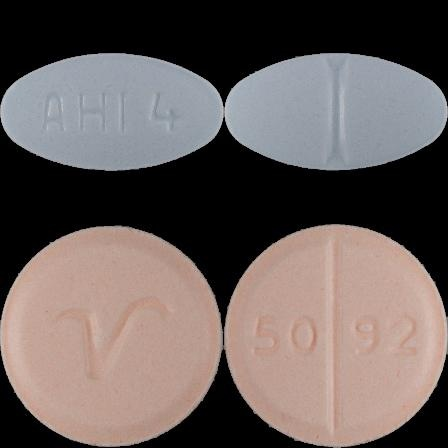50090-1987: (0, 0, 224, 224)
